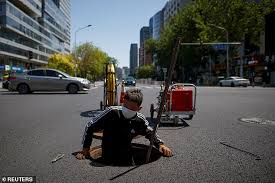Manhole-Open: (83, 136, 173, 174)
car: (3, 66, 103, 103), (218, 72, 253, 89)
human: (78, 81, 180, 170)
